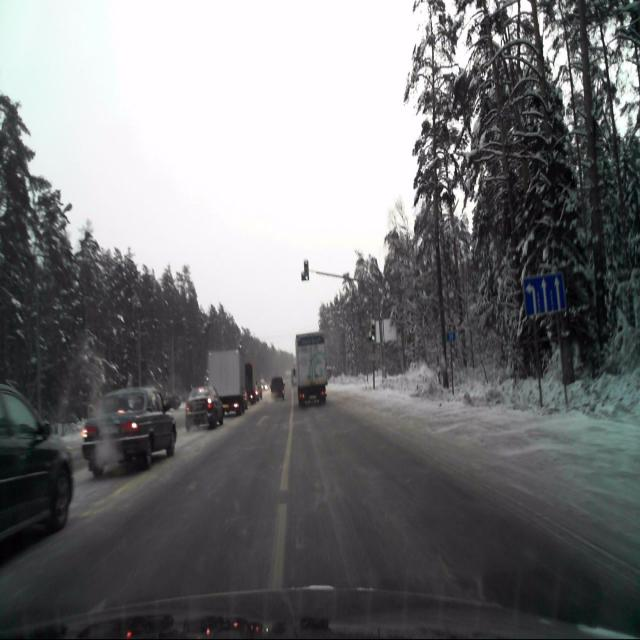road sign: (524, 272, 566, 316)
